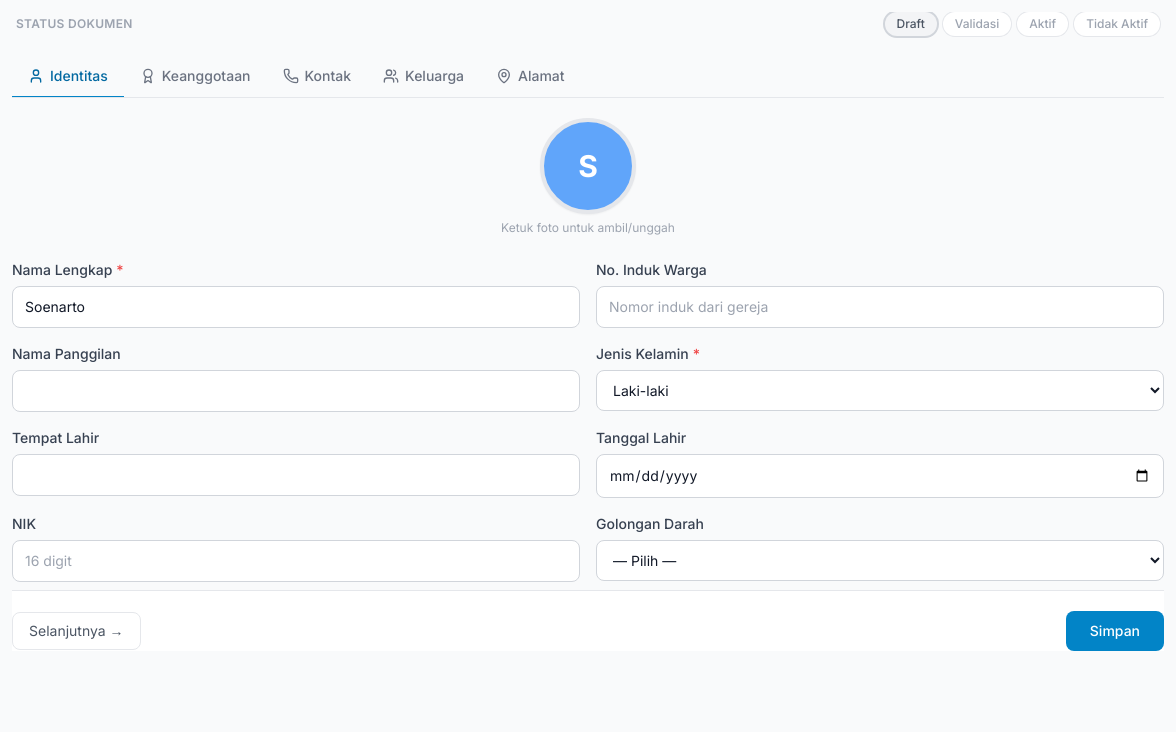
Test case: WargaForm — koordinat rumah › koordinat tersimpan sebelumnya dimuat ke kolom saat edit
Click the button "Alamat" at (530,77), box [480,56,581,98]
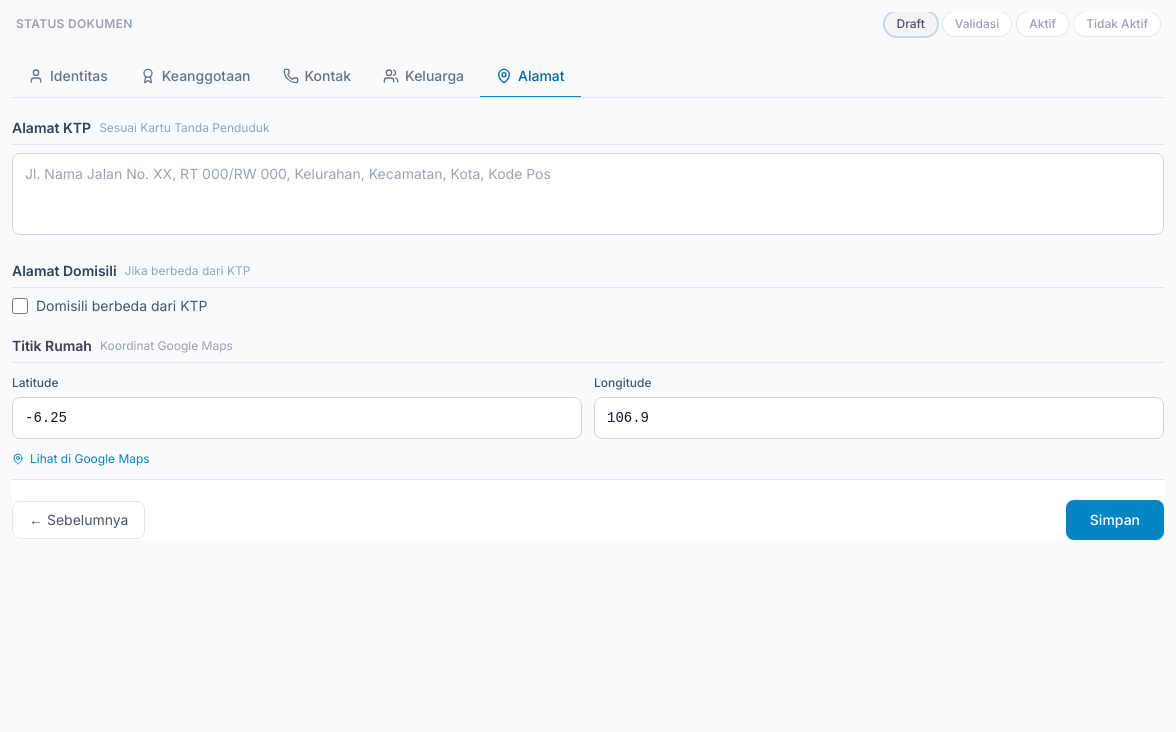
Result: the field with placeholder "-6.2088" below "Latitude" holds "-6.25" at [12,397,582,439]
Result: the field with placeholder "106.8456" below "Longitude" holds "106.9" at [594,397,1164,439]
